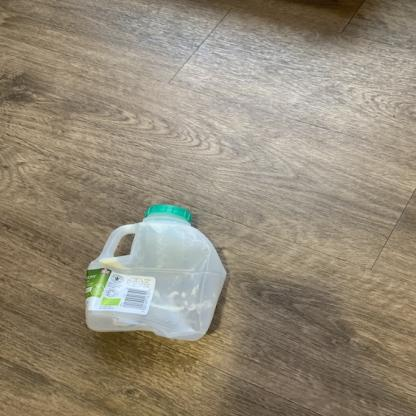trash: (83, 202, 231, 344)
